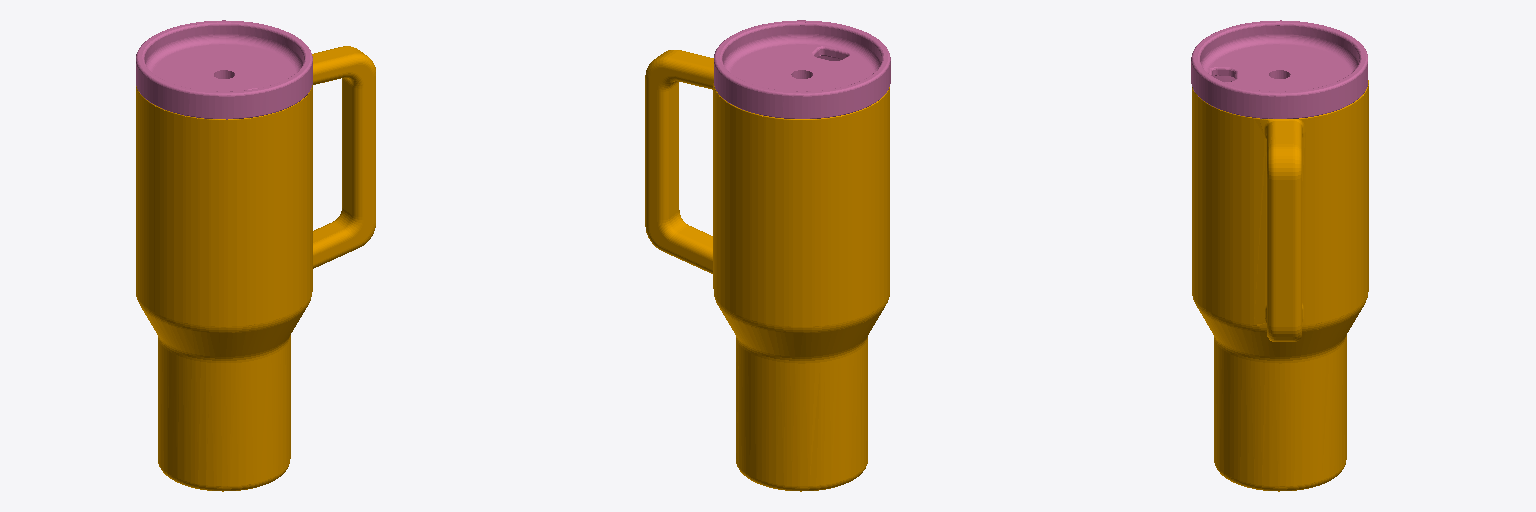
robot.urdf — tumbler:
<?xml version="1.0"?>
<!-- tumbler.urdf 의 6자유도 판.
     캡을 body 에 cap_spin(z회전) + cap_lift(z이동) + 여분 4개(cap_tx/ty 수평,
     cap_rx/ry 기울임) 사슬로 연결한다. 잠긴 동안 여분 4개는 screw_coupling 이
     강성 위치 드라이브로 0 에 고정하므로 기존 2자유도 판과 같은 거동이고,
     해제(180도) 순간 드라이브를 꺼서 캡이 완전 자유 강체처럼 움직인다
     (기울고, 미끄러지고, 계속 돈다). 2자유도 판은 해제 후에도 z 회전+상승만
     가능해서 손이 캡을 기울이거나 옆으로 빼낼 수 없었다.
     cap_spin 상한은 나사끝(180도)+2도 여유 (tumbler.urdf 의 주석 참조).
     해제 시 spin 한계 확장은 screw_coupling.release_bound() 가 담당한다. -->
<robot name="tumbler">
  <link name="body">
    <visual>
      <geometry><mesh filename="meshes/body_visual.obj"/></geometry>
    </visual>
    <collision>
      <geometry><mesh filename="meshes/body_collision.obj"/></geometry>
    </collision>
    <inertial>
      <mass value="0.3"/>
      <origin xyz="0.020946 0.000643 0.134835"/>
      <inertia ixx="0.00167630" iyy="0.00206606" izz="0.00082941" ixy="0" ixz="0" iyz="0"/>
    </inertial>
  </link>

  <link name="cap_spinner">
    <inertial>
      <mass value="1e-4"/>
      <inertia ixx="1e-8" iyy="1e-8" izz="1e-8" ixy="0" ixz="0" iyz="0"/>
    </inertial>
  </link>
  <joint name="cap_spin" type="revolute">
    <parent link="body"/>
    <child link="cap_spinner"/>
    <origin xyz="0 0 0.225000"/>
    <axis xyz="0 0 1"/>
    <limit lower="-0.020000" upper="3.176499" effort="50.0" velocity="20.0"/>
    <dynamics damping="0.001" friction="0.0"/>
  </joint>

  <link name="cap_lifter">
    <inertial>
      <mass value="1e-4"/>
      <inertia ixx="1e-8" iyy="1e-8" izz="1e-8" ixy="0" ixz="0" iyz="0"/>
    </inertial>
  </link>
  <joint name="cap_lift" type="prismatic">
    <parent link="cap_spinner"/>
    <child link="cap_lifter"/>
    <origin xyz="0 0 0"/>
    <axis xyz="0 0 1"/>
    <limit lower="0.0" upper="0.13" effort="100.0" velocity="5.0"/>
    <mimic joint="cap_spin" multiplier="3.18309886e-03" offset="0.0"/>
  </joint>

  <!-- 여분 4자유도. 잠긴 동안 screw_coupling 이 강성 드라이브로 0 고정. -->
  <link name="cap_fx">
    <inertial>
      <mass value="1e-4"/>
      <inertia ixx="1e-8" iyy="1e-8" izz="1e-8" ixy="0" ixz="0" iyz="0"/>
    </inertial>
  </link>
  <joint name="cap_tx" type="prismatic">
    <parent link="cap_lifter"/>
    <child link="cap_fx"/>
    <origin xyz="0 0 0"/>
    <axis xyz="1 0 0"/>
    <limit lower="-0.5" upper="0.5" effort="100.0" velocity="5.0"/>
  </joint>

  <link name="cap_fy">
    <inertial>
      <mass value="1e-4"/>
      <inertia ixx="1e-8" iyy="1e-8" izz="1e-8" ixy="0" ixz="0" iyz="0"/>
    </inertial>
  </link>
  <joint name="cap_ty" type="prismatic">
    <parent link="cap_fx"/>
    <child link="cap_fy"/>
    <origin xyz="0 0 0"/>
    <axis xyz="0 1 0"/>
    <limit lower="-0.5" upper="0.5" effort="100.0" velocity="5.0"/>
  </joint>

  <link name="cap_frx">
    <inertial>
      <mass value="1e-4"/>
      <inertia ixx="1e-8" iyy="1e-8" izz="1e-8" ixy="0" ixz="0" iyz="0"/>
    </inertial>
  </link>
  <joint name="cap_rx" type="revolute">
    <parent link="cap_fy"/>
    <child link="cap_frx"/>
    <origin xyz="0 0 0"/>
    <axis xyz="1 0 0"/>
    <limit lower="-3.1416" upper="3.1416" effort="50.0" velocity="20.0"/>
  </joint>

  <joint name="cap_ry" type="revolute">
    <parent link="cap_frx"/>
    <child link="cap"/>
    <origin xyz="0 0 0"/>
    <axis xyz="0 1 0"/>
    <limit lower="-3.1416" upper="3.1416" effort="50.0" velocity="20.0"/>
  </joint>

  <link name="cap">
    <visual>
      <geometry><mesh filename="meshes/cap_visual.obj"/></geometry>
    </visual>
    <collision>
      <geometry><mesh filename="meshes/cap_collision.obj"/></geometry>
    </collision>
    <inertial>
      <mass value="0.05"/>
      <origin xyz="-0.000048 0.000284 0.015506"/>
      <inertia ixx="0.00004334" iyy="0.00004411" izz="0.00008291" ixy="0" ixz="0" iyz="0"/>
    </inertial>
  </link>

  <!-- 매끈한 원통이라 그대로는 미끄럽다. 나사산 대신 마찰로 그립을 만든다. -->
  <gazebo reference="cap"><mu1>2.0</mu1><mu2>2.0</mu2></gazebo>
  <gazebo reference="body"><mu1>2.0</mu1><mu2>2.0</mu2></gazebo>
</robot>

--- Render facts (derived) ---
Views: 3 orthographic renders of the robot side by side, from view 1: azimuth 30°, elevation 25°; view 2: azimuth 150°, elevation 25°; view 3: azimuth 270°, elevation 25°.
Robot: tumbler — 7 links, 6 joints (3 revolute, 3 prismatic); root link body; default pose: every joint at zero.
Visible links, largest first — view 1: body, cap; view 2: body, cap; view 3: body, cap.
Link boxes in pixels (x1,y1,x2,y2): body: (136,46,375,491); cap: (136,20,312,119); body: (645,50,889,491); cap: (714,20,890,118); body: (1192,80,1368,491); cap: (1191,20,1367,118).
Size in the robot's own frame: 0.1471 by 0.1002 by 0.255 metres.
Meshes: 2 distinct files referenced, 2 mesh visuals loaded (2 OBJ).
